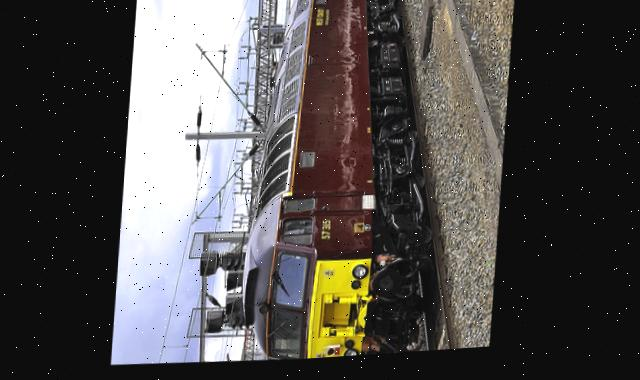train: (225, 0, 458, 365)
